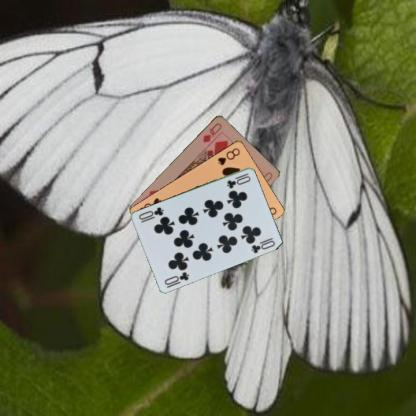10c: (224, 171, 252, 190), (162, 269, 190, 286)
8s: (215, 145, 241, 166)
Qd: (201, 120, 223, 143)
